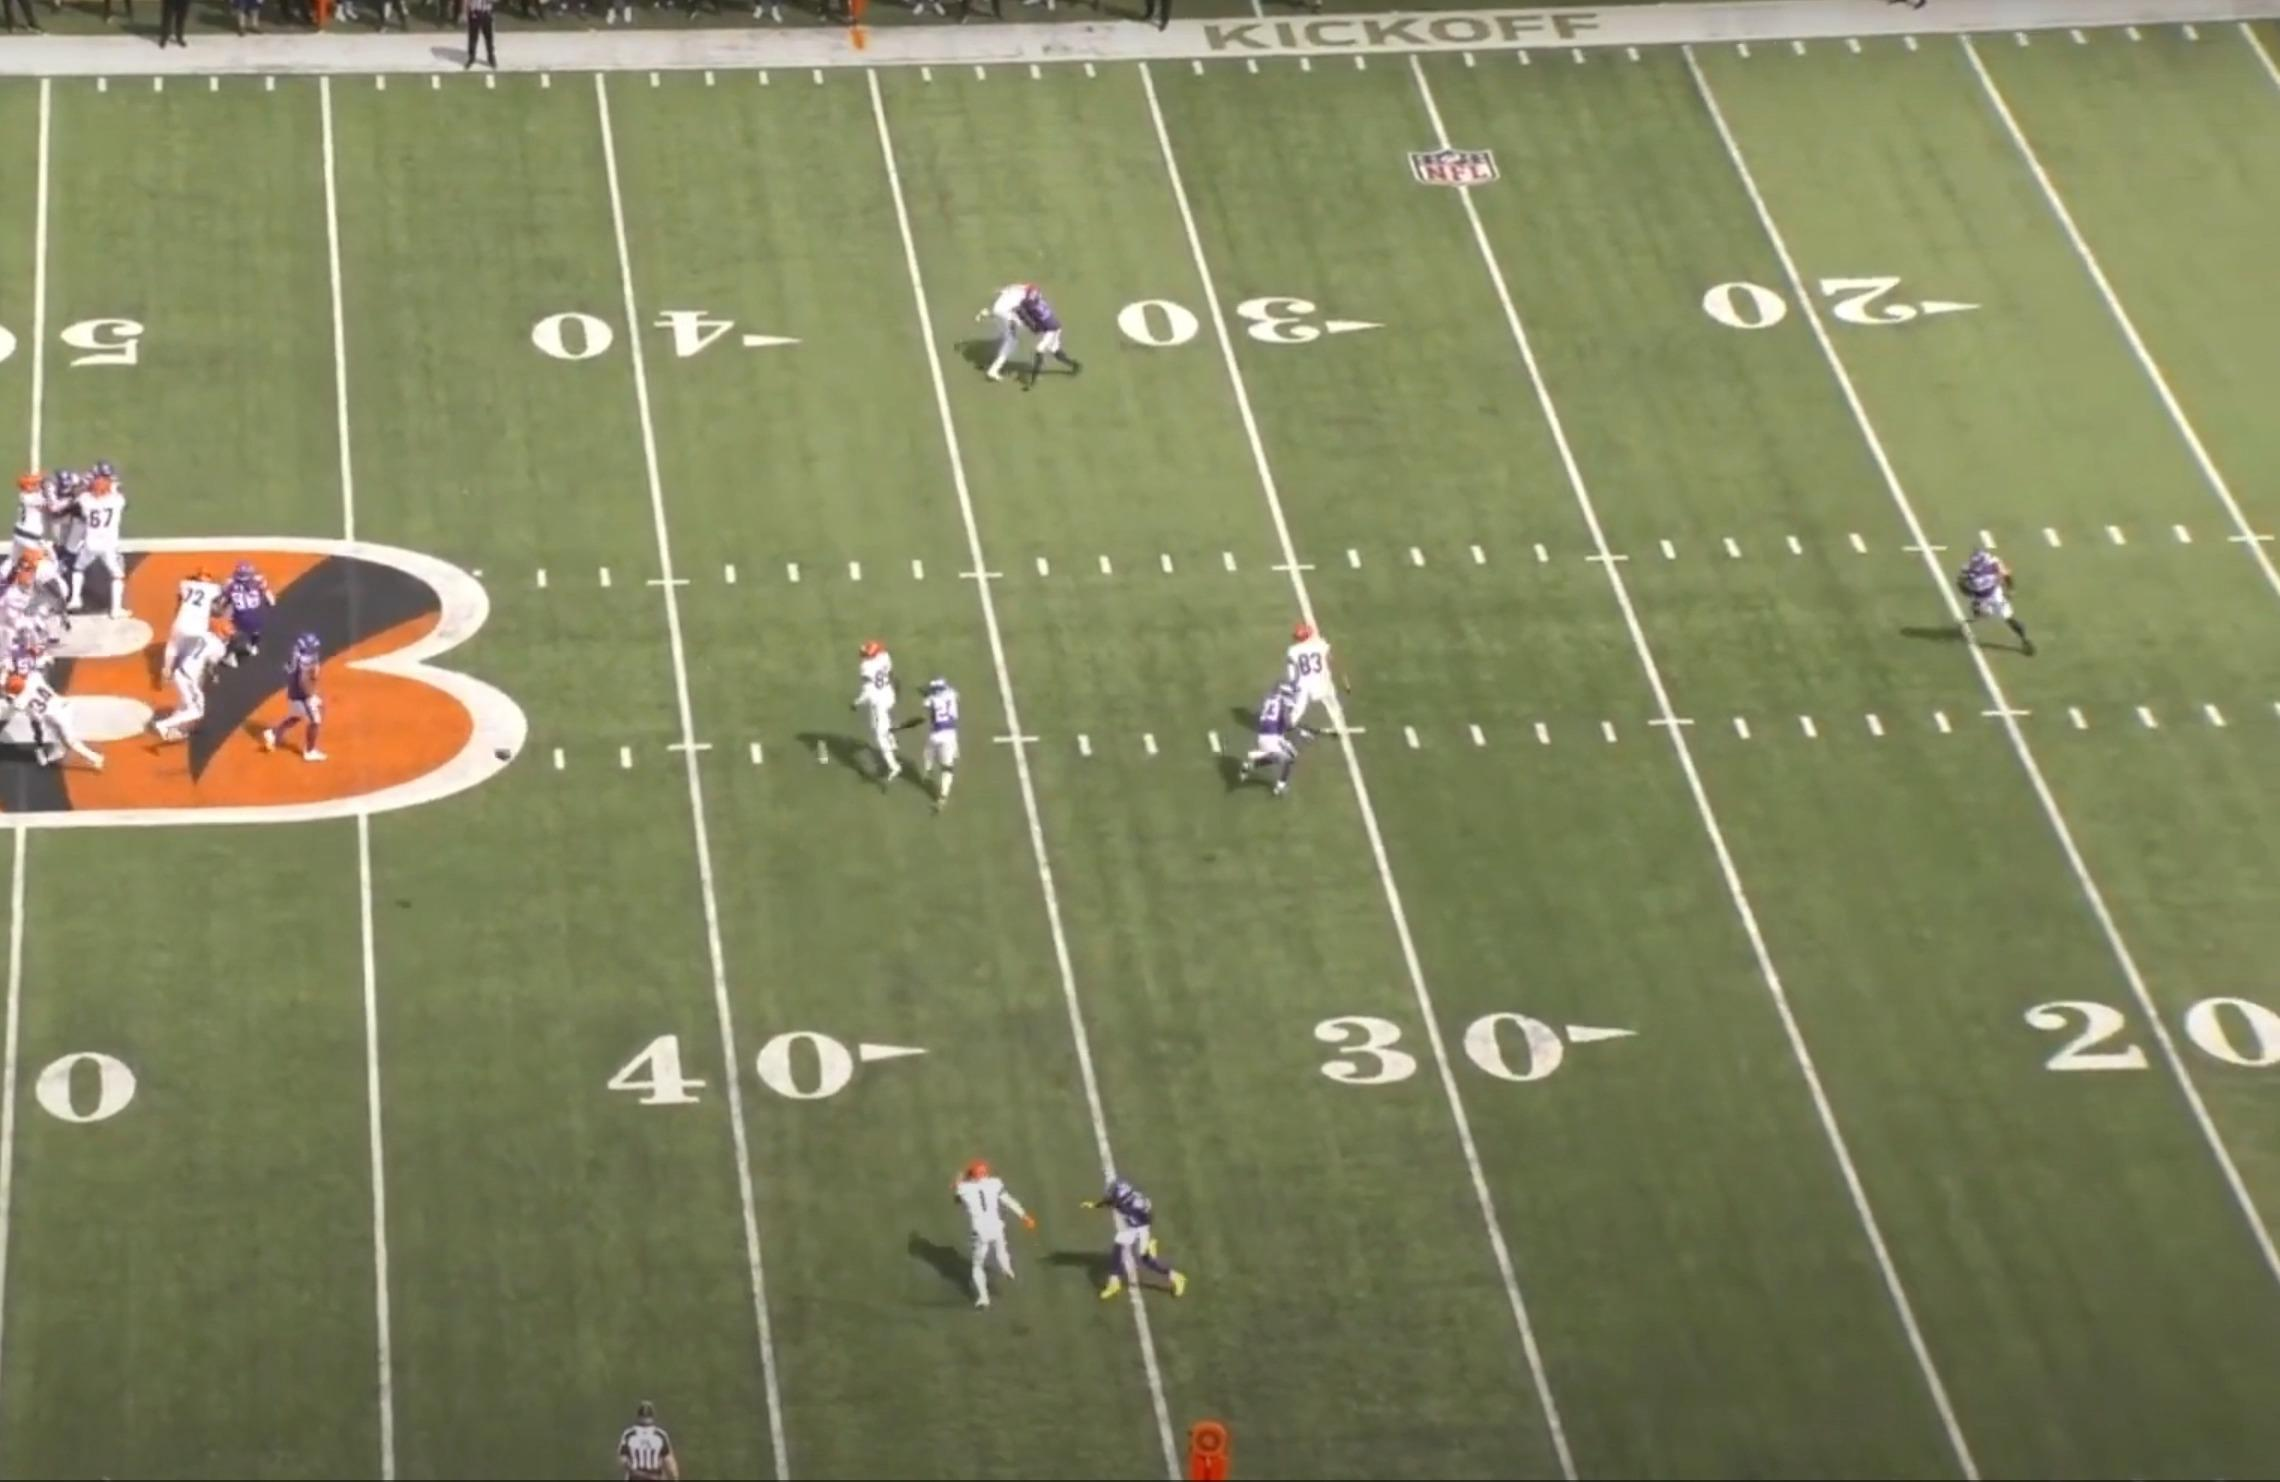player: (1086, 1162, 1191, 1314), (953, 1153, 1044, 1315), (1226, 660, 1318, 805), (150, 616, 237, 744), (850, 633, 912, 797), (62, 476, 131, 619), (1958, 543, 2036, 668), (6, 674, 108, 769), (266, 626, 332, 772), (922, 663, 980, 815), (1277, 623, 1343, 753), (161, 566, 225, 684), (219, 561, 281, 680), (1019, 288, 1089, 393), (976, 277, 1033, 388), (1, 475, 52, 571), (26, 548, 73, 626), (0, 571, 42, 635), (75, 461, 126, 500), (3, 629, 45, 676), (47, 465, 78, 517), (0, 554, 37, 589)
ref: (609, 1398, 692, 1482), (452, 4, 512, 77)
